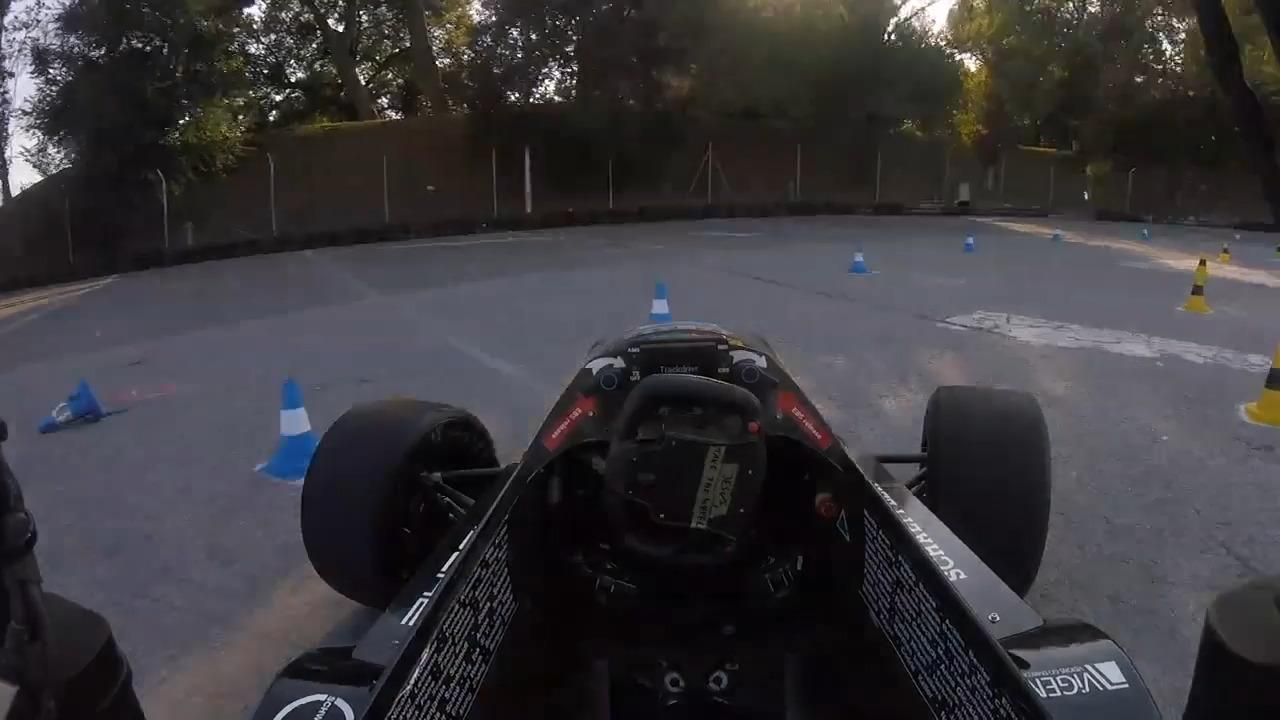blue_cone: (257, 375, 320, 485), (26, 378, 108, 442), (637, 281, 680, 328), (846, 243, 877, 280), (963, 228, 980, 255), (1139, 226, 1154, 242), (1051, 224, 1064, 242)
yellow_cone: (1243, 339, 1280, 431), (1187, 274, 1213, 314), (1217, 241, 1235, 267), (1196, 253, 1209, 276), (1274, 241, 1280, 259)
